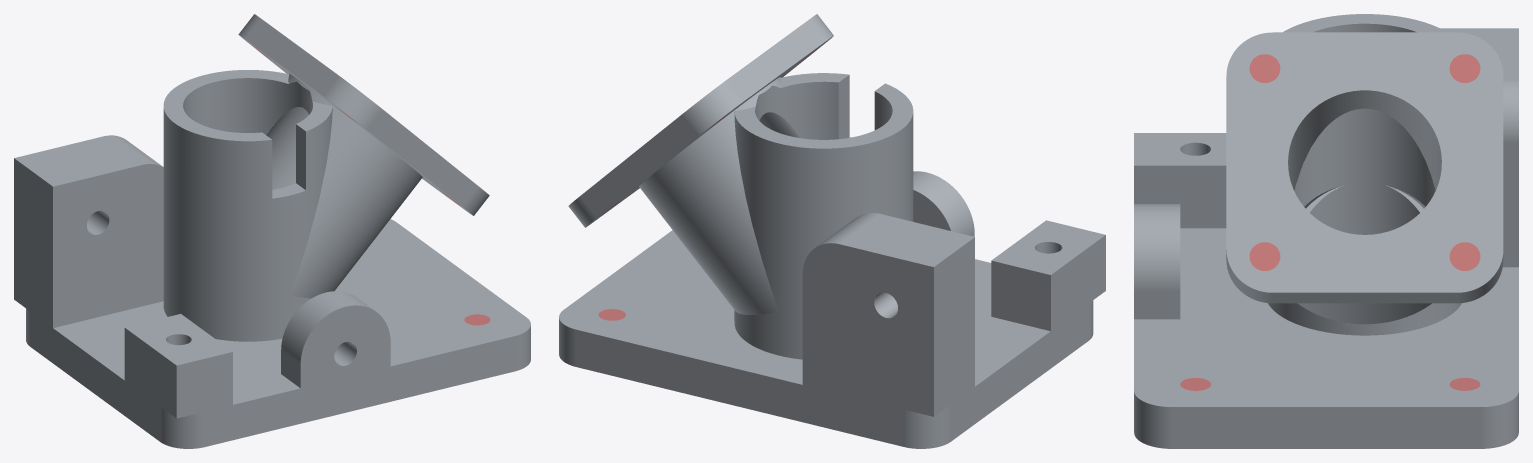
File: step_10.glb
The picture shows the model from 3 angles, left to right: view 1: azimuth 30°, elevation 25°; view 2: azimuth 150°, elevation 25°; view 3: azimuth 270°, elevation 25°; orthographic projection. The views are drawn at different scales.
Visible parts, largest first — view 1: part__tube bracket; view 2: part__tube bracket; view 3: part__tube bracket, removed__tube bracket.
Boxes of the visible parts, <box> form: part__tube bracket: <box>14,14,530,448</box>; part__tube bracket: <box>559,14,1105,448</box>; part__tube bracket: <box>1134,14,1518,448</box>; removed__tube bracket: <box>1180,54,1480,390</box>.
Size of the model in its own units: 65 by 47.73 by 50.
